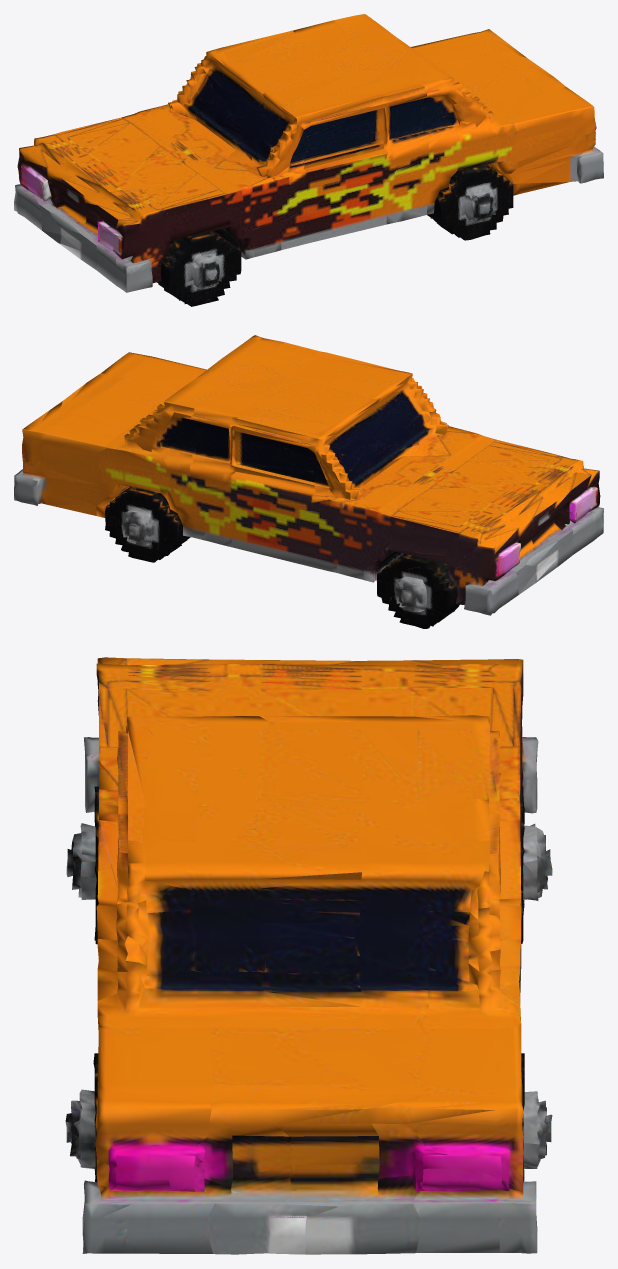
File: muscle-flame.glb
The picture shows the model from 3 angles, top to bottom: view 1: azimuth 30°, elevation 25°; view 2: azimuth 150°, elevation 25°; view 3: azimuth 270°, elevation 25°; orthographic projection. The views are drawn at different scales.
Size of the model in its own units: 1 by 0.3145 by 0.4424.
1 material, 1 textured.
